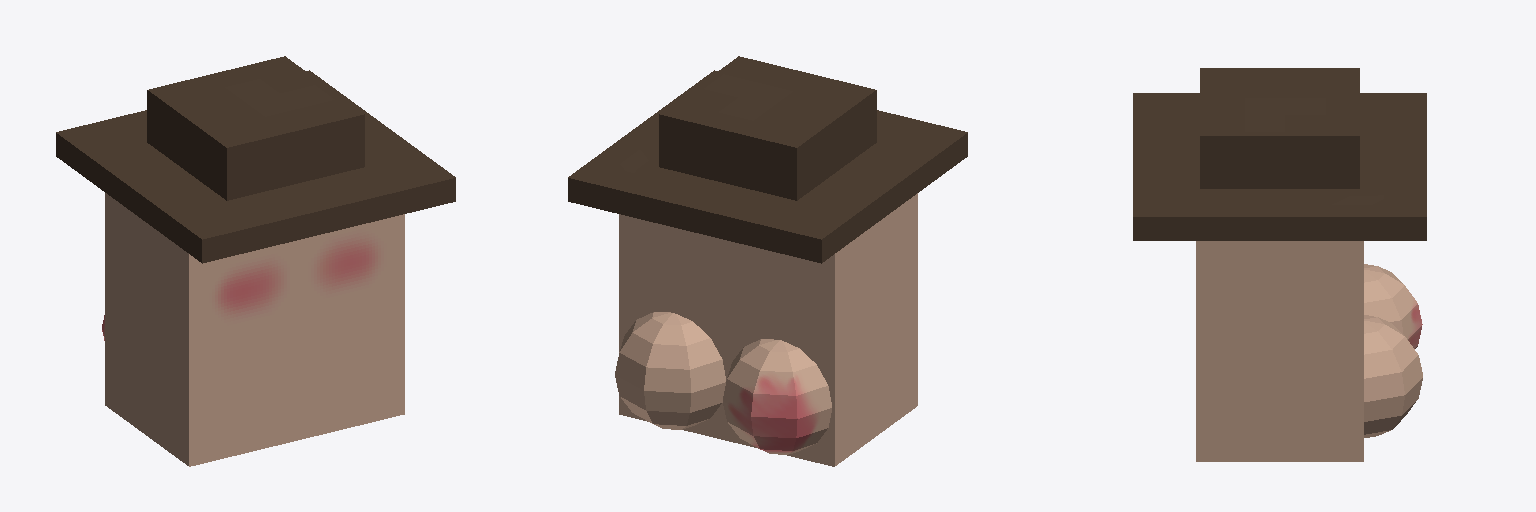
3 renders of one model, left to right at view 1: azimuth 30°, elevation 25°; view 2: azimuth 150°, elevation 25°; view 3: azimuth 270°, elevation 25°, orthographic.
Parts seen in each view (by area): view 1: Cube.001; view 2: Cube.001; view 3: Cube.001.
Boxes of the visible parts, box(x1,y1,x2,y2) form: Cube.001: box(56, 56, 455, 466); Cube.001: box(568, 56, 967, 466); Cube.001: box(1133, 68, 1426, 461).
Bounding box in the file's own units: 0.8199 × 0.949 × 0.8199.
1 materials, 1 textured.